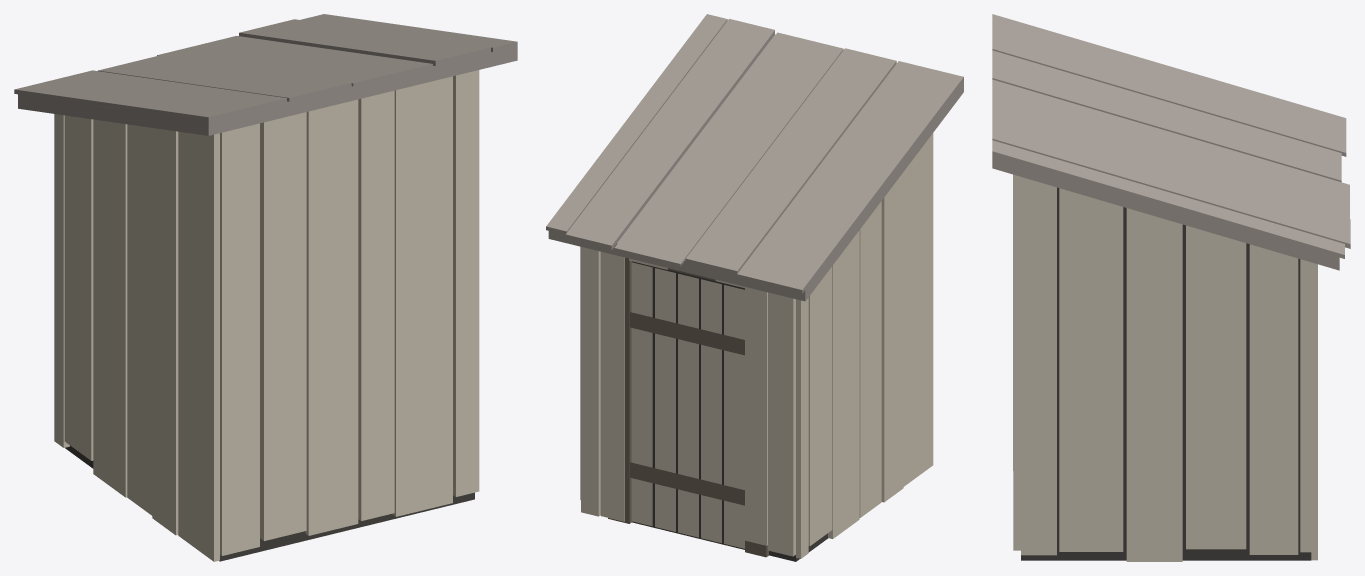
File: recon_1835_blk_south_water_franklin_a3_07__inferred_1835.glb
3 views of the same model, side by side, from view 1: azimuth 30°, elevation 25°; view 2: azimuth 150°, elevation 25°; view 3: azimuth 270°, elevation 25° (orthographic). The views are drawn at different scales.
Parts seen in each view (by area): view 1: recon_1835_blk_south_water_franklin_a3_07__inferred_1835; view 2: recon_1835_blk_south_water_franklin_a3_07__inferred_1835; view 3: recon_1835_blk_south_water_franklin_a3_07__inferred_1835.
Boxes of the visible parts, x1,y1,x2,y2 form: recon_1835_blk_south_water_franklin_a3_07__inferred_1835: (14,14,517,561); recon_1835_blk_south_water_franklin_a3_07__inferred_1835: (546,14,963,561); recon_1835_blk_south_water_franklin_a3_07__inferred_1835: (992,14,1350,561).
Bounding box in the file's own units: 1.91 × 2.74 × 2.11.
